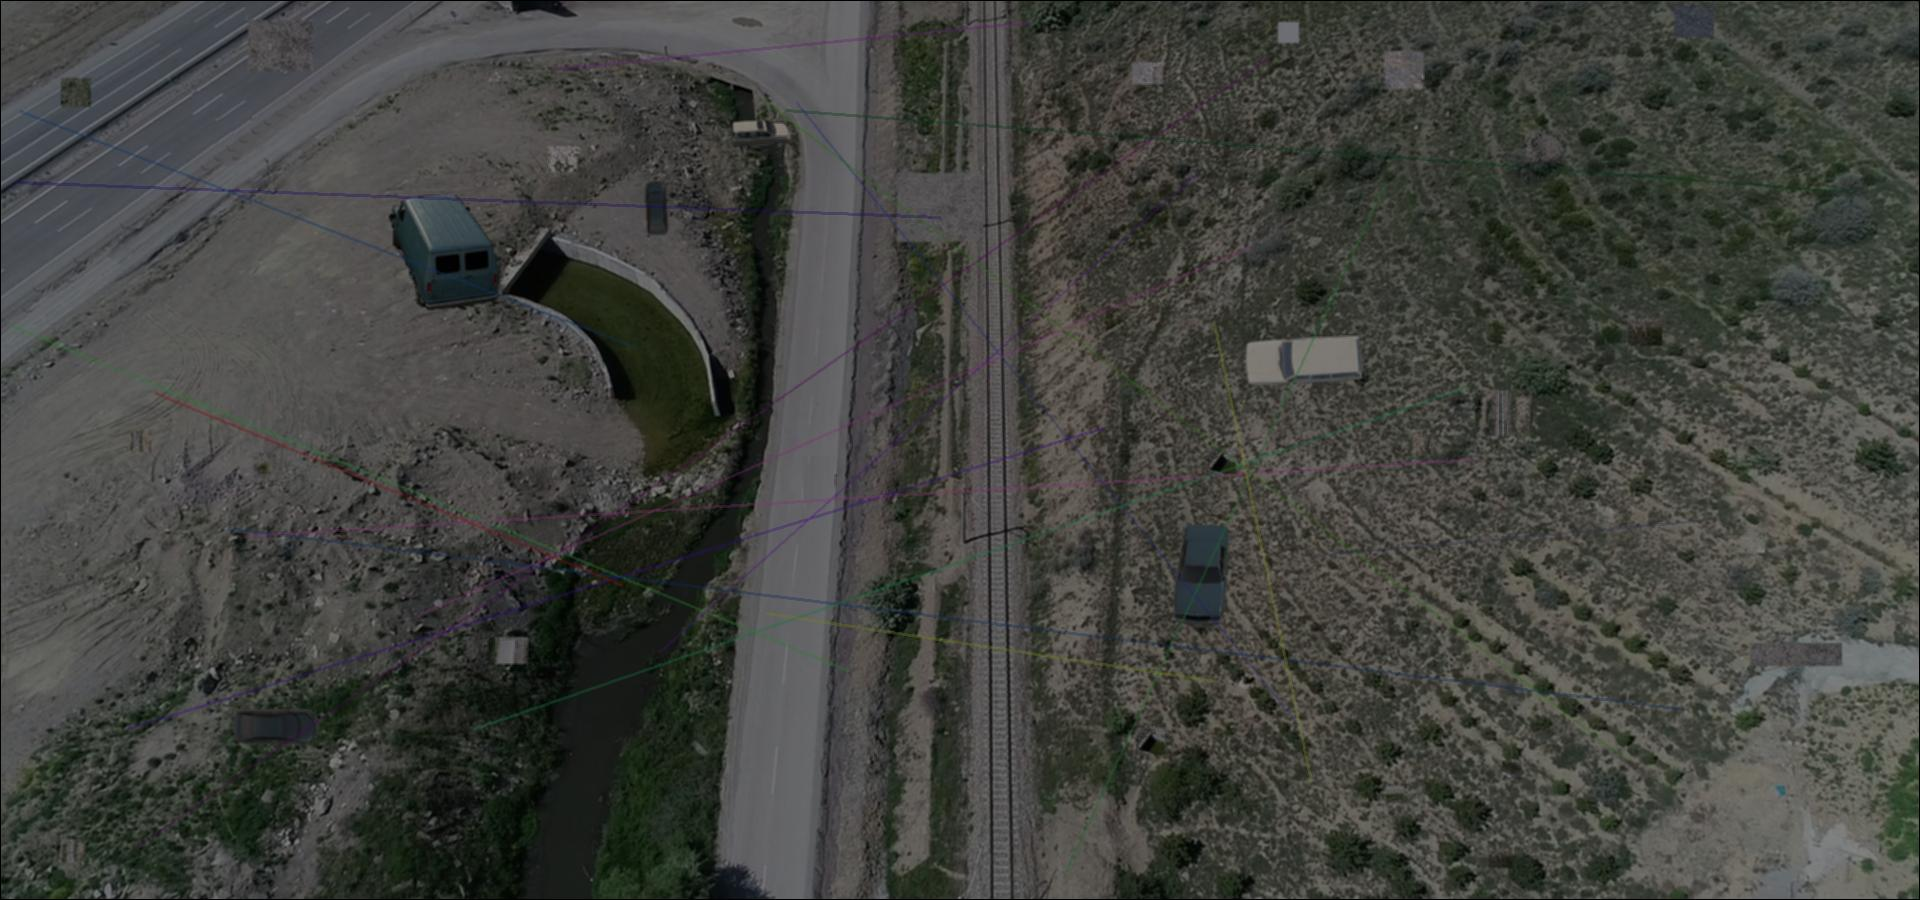arac: (389, 195, 503, 310), (1243, 333, 1365, 386), (1174, 523, 1232, 628), (231, 707, 318, 744), (729, 119, 793, 151), (640, 179, 670, 235)
